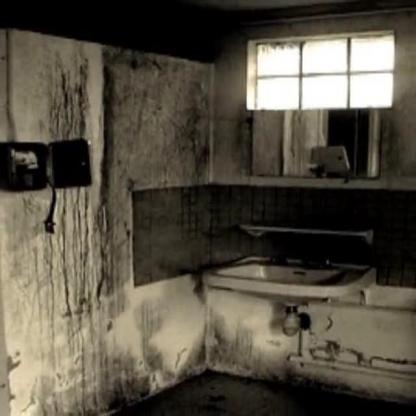other: (242, 40, 404, 111)
